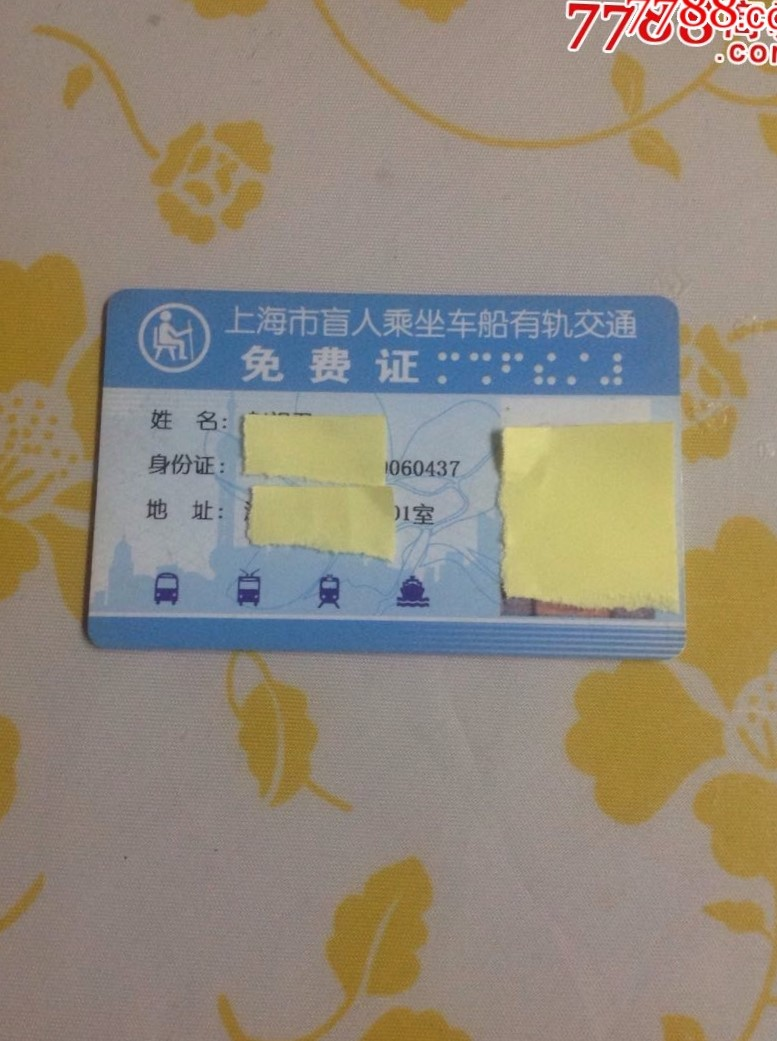Braille: (600, 348, 626, 393), (434, 349, 462, 387), (467, 350, 494, 389), (566, 350, 591, 392), (533, 349, 557, 392), (499, 350, 525, 388)
